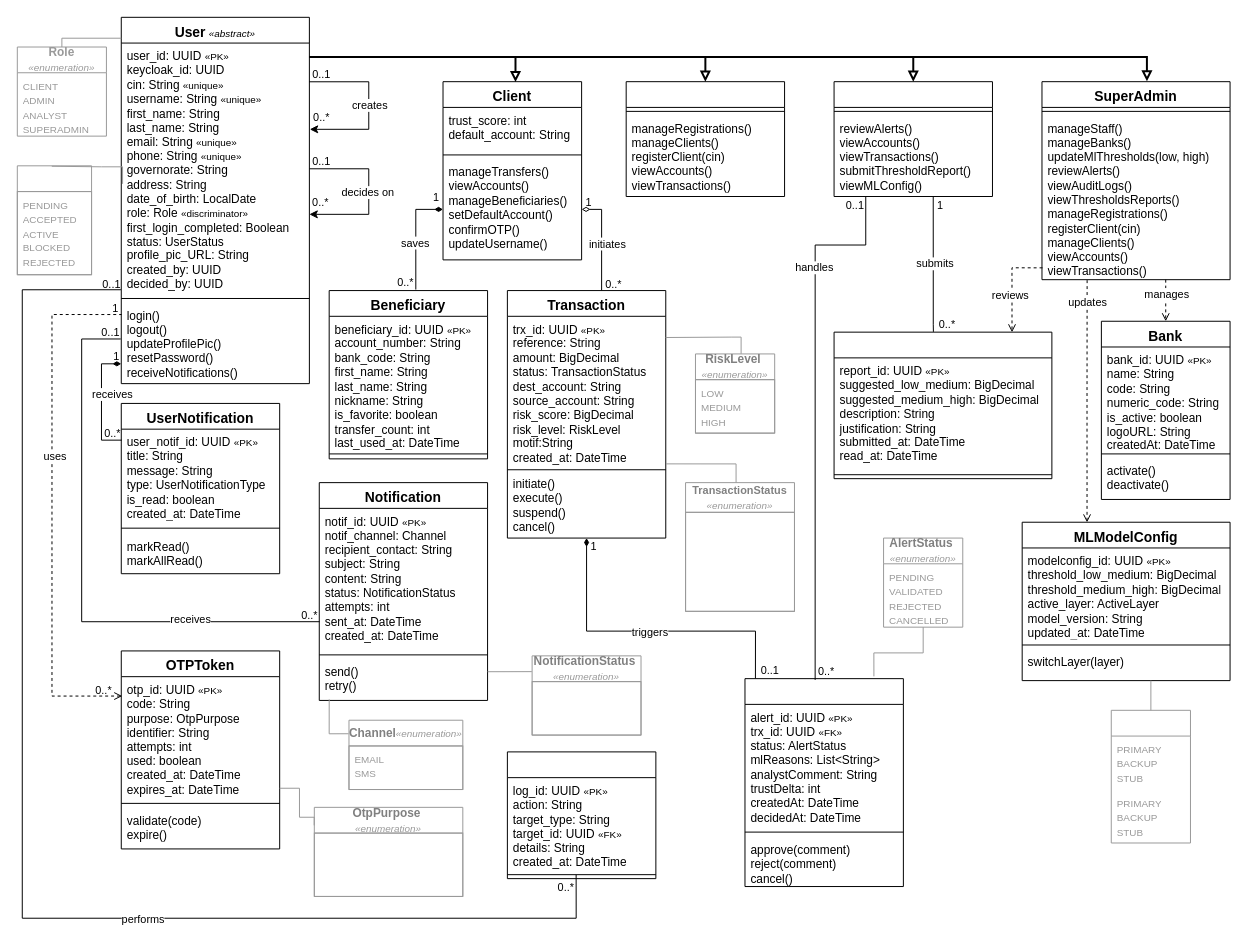
Image size: 1247x942. Some labels were removed from this diagram. Each missing label, with the box of its shape:
ActiveLayer «enumeration»: (1110, 709, 1190, 843)
Admin: (625, 81, 785, 197)
Analyst: (833, 81, 992, 197)
AuditLog: (506, 751, 656, 879)
FraudAlert: (744, 678, 903, 887)
MLThresholdReport: (833, 331, 1052, 479)
PENDING SENT FAILED: (531, 681, 641, 735)
PENDING_OTP PENDING_SCORING APPROVED REJECTED PENDING_ANALYST CANCELLED: (685, 511, 794, 611)
REGISTRATION LOGIN TRANSFER_CONFIRMATION PASSWORD_CHANGE: (313, 832, 463, 896)
UserStatus «enumeration»: (16, 165, 92, 275)
